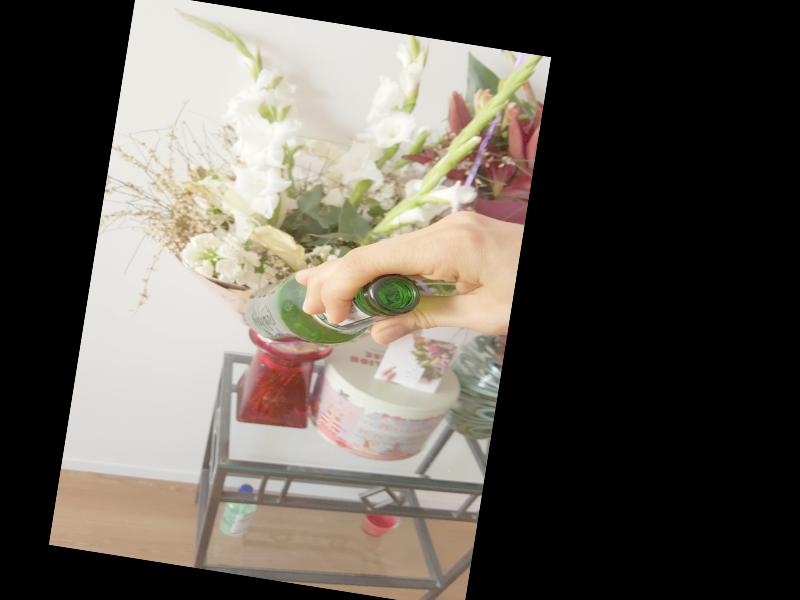Beer: (240, 252, 422, 363)
